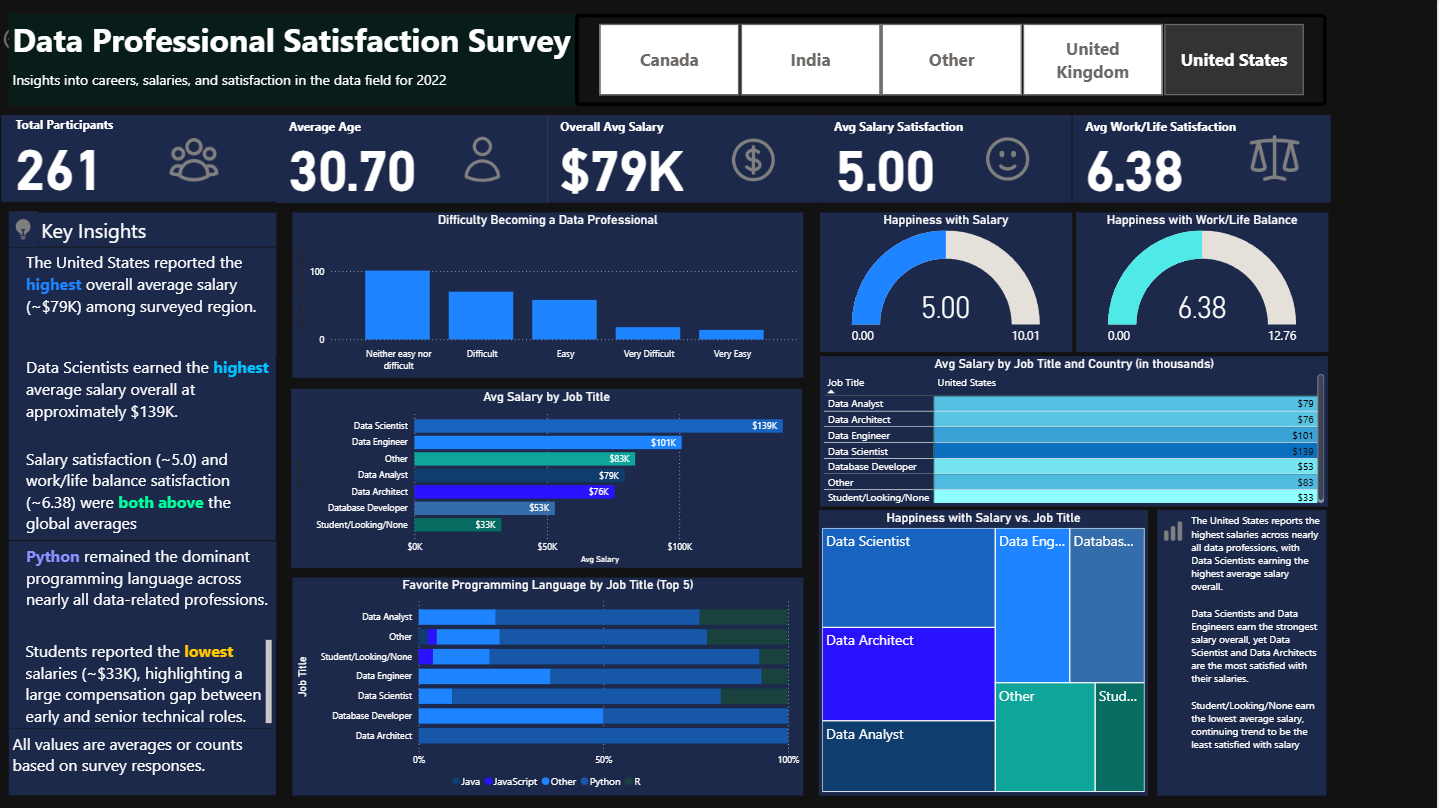

What the dashboard file says about the page in this screenshot:
{"tool":"powerbi","page":{"name":"United States","canvas":[1920,1080],"ordinal":1},"visuals":[{"type":"cardVisual","fields":{"Data":["Data Professional Survey.Total Participants"]},"box":[1.6,153.9,371,115.8],"z":0,"group":"g6"},{"type":"group","id":"g1","title":"Group 3","box":[369.2,153.9,363.7,117.6],"z":0},{"type":"cardVisual","fields":{"Data":["Data Professional Survey.Average Age"]},"box":[369.2,153.9,363.7,117.6],"z":1000,"group":"g1"},{"type":"image","box":[178.2,170.2,161,84.5],"z":1000,"group":"g6"},{"type":"gauge","fields":{"Y":["Data Professional Survey.Avg Salary Satisfaction"]},"box":[1094.8,284.1,336.6,186.4],"z":1000},{"type":"group","id":"g2","title":"Group 4","box":[732.1,153.9,365.6,117.1],"z":2000},{"type":"cardVisual","fields":{"Data":["Data Professional Survey.Overall Avg Salary"]},"box":[732.1,153.9,365.6,117.1],"z":2000,"group":"g2"},{"type":"gauge","fields":{"Y":["Data Professional Survey.Avg WorkLife Satisfaction"]},"box":[1436.9,284.1,336.6,186.4],"z":3000},{"type":"group","id":"g3","title":"Group 5","box":[1097.7,153.9,334.5,117.1],"z":4000},{"type":"actionButton","box":[0,31,100,41],"z":5000},{"type":"cardVisual","fields":{"Data":["Data Professional Survey.Avg Salary Satisfaction"]},"box":[1097.7,153.9,334.5,117.1],"z":6000,"group":"g3"},{"type":"group","id":"g4","title":"Group 6","box":[1432.2,153.9,344.9,117.1],"z":6000},{"type":"pivotTable","title":"Avg Salary by Job Title and Country (in thousands)","fields":{"Rows":["Data Professional Survey.Job Title"],"Columns":["Data Professional Survey.Country"],"Values":["Avg(Data Professional Survey.Average Salary)"]},"box":[1094.8,475.9,678.6,200.9],"z":7000},{"type":"treemap","title":"Happiness with Salary vs. Job Title","fields":{"Values":["Avg(Data Professional Survey.Q6 - How Happy are you in your Current Position with the following? (Salary))"],"Group":["Data Professional Survey.Job Title"]},"box":[1093.2,680.5,440.2,381.5],"z":8000},{"type":"cardVisual","fields":{"Data":["Data Professional Survey.Avg WorkLife Satisfaction"]},"box":[1432.2,153.9,344.9,117.1],"z":9000,"group":"g4"},{"type":"textbox","box":[49.5,284.3,319.2,45.9],"z":9000},{"type":"barChart","title":"Avg Salary by Job Title","fields":{"Category":["Data Professional Survey.Job Title"],"Y":["Data Professional Survey.Overall Avg Salary"],"Series":["Data Professional Survey.Job Title"]},"box":[389.1,519.4,682.2,238.9],"z":10000},{"type":"clusteredColumnChart","title":"Difficulty Becoming a Data Professional","fields":{"Category":["Data Professional Survey.Q7 - How difficult was it for you to break into Data?"],"Y":["CountNonNull(Data Professional Survey.Unique ID)"]},"box":[390.9,284.1,682.2,220.8],"z":11000},{"type":"hundredPercentStackedBarChart","title":"Favorite Programming Language by Job Title (Top 5)","fields":{"Series":["Data Professional Survey.Q5 - Favorite Programming Language.1"],"Category":["Data Professional Survey.Job Title"],"Y":["CountNonNull(Data Professional Survey.Unique ID)"]},"box":[390.9,770.9,682.2,291.4],"z":12000},{"type":"textbox","box":[10.9,850.5,356.5,123.1],"z":13000},{"type":"textbox","box":[10.9,470.5,356.5,123.1],"z":14000},{"type":"textbox","box":[1546.3,680.5,225.6,381.5],"z":14000,"group":"g5"},{"type":"textbox","box":[10.9,18.1,756.4,70.6],"z":15000},{"type":"textbox","box":[10.9,88.7,756.4,52.5],"z":16000},{"type":"slicer","fields":{"Values":["Data Professional Survey.Country"]},"box":[767.3,18.1,1004.4,123.1],"z":17000},{"type":"textbox","box":[11,330.2,357.7,143.1],"z":18000},{"type":"textbox","box":[10.9,593.6,356.5,128.5],"z":19000},{"type":"textbox","box":[11,722.7,357.7,128.4],"z":20000},{"type":"textbox","box":[10.9,973.6,356.5,88.7],"z":21000},{"type":"image","box":[11,282.5,38.5,47.7],"z":22000},{"type":"group","id":"g5","title":"Group 1","box":[1546.3,680.5,225.6,381.5],"z":23000},{"type":"group","id":"g6","title":"Group 2","box":[1.6,153.9,371,115.8],"z":24000},{"type":"image","box":[583.4,174.7,123.4,79],"z":25000,"group":"g1"},{"type":"image","box":[937.5,173.2,139.4,79.9],"z":26000,"group":"g2"},{"type":"image","box":[1286.1,171.9,121.1,81.3],"z":27000,"group":"g3"},{"type":"image","box":[1641.9,169.2,119.2,85.3],"z":28000,"group":"g4"},{"type":"image","box":[1546.3,685.8,42.2,46.4],"z":30000,"group":"g5"}]}

Visuals, with their boxes in screenshot pixels (x1, y1, x2, y2), scaled from the page's 1920x1080 canvas onto the 1439x808 screenshot:
cardVisual - Data Professional Survey.Total Participants: 1:115:279:202
"Group 3" group: 277:115:549:203
cardVisual - Data Professional Survey.Average Age: 277:115:549:203
image: 134:127:254:191
gauge - Data Professional Survey.Avg Salary Satisfaction: 821:213:1073:352
"Group 4" group: 549:115:823:203
cardVisual - Data Professional Survey.Overall Avg Salary: 549:115:823:203
gauge - Data Professional Survey.Avg WorkLife Satisfaction: 1077:213:1329:352
"Group 5" group: 823:115:1073:203
actionButton: 0:23:75:54
cardVisual - Data Professional Survey.Avg Salary Satisfaction: 823:115:1073:203
"Group 6" group: 1073:115:1332:203
"Avg Salary by Job Title and Country (in thousands)" pivotTable: 821:356:1329:506
"Happiness with Salary vs. Job Title" treemap: 819:509:1149:795
cardVisual - Data Professional Survey.Avg WorkLife Satisfaction: 1073:115:1332:203
textbox: 37:213:276:247
"Avg Salary by Job Title" barChart: 292:389:803:567
"Difficulty Becoming a Data Professional" clusteredColumnChart: 293:213:804:378
"Favorite Programming Language by Job Title (Top 5)" hundredPercentStackedBarChart: 293:577:804:795
textbox: 8:636:275:728
textbox: 8:352:275:444
textbox: 1159:509:1328:795
textbox: 8:14:575:66
textbox: 8:66:575:106
slicer - Data Professional Survey.Country: 575:14:1328:106
textbox: 8:247:276:354
textbox: 8:444:275:540
textbox: 8:541:276:637
textbox: 8:728:275:795
image: 8:211:37:247
"Group 1" group: 1159:509:1328:795
"Group 2" group: 1:115:279:202
image: 437:131:530:190
image: 703:130:807:189
image: 964:129:1055:189
image: 1231:127:1320:190
image: 1159:513:1191:548
